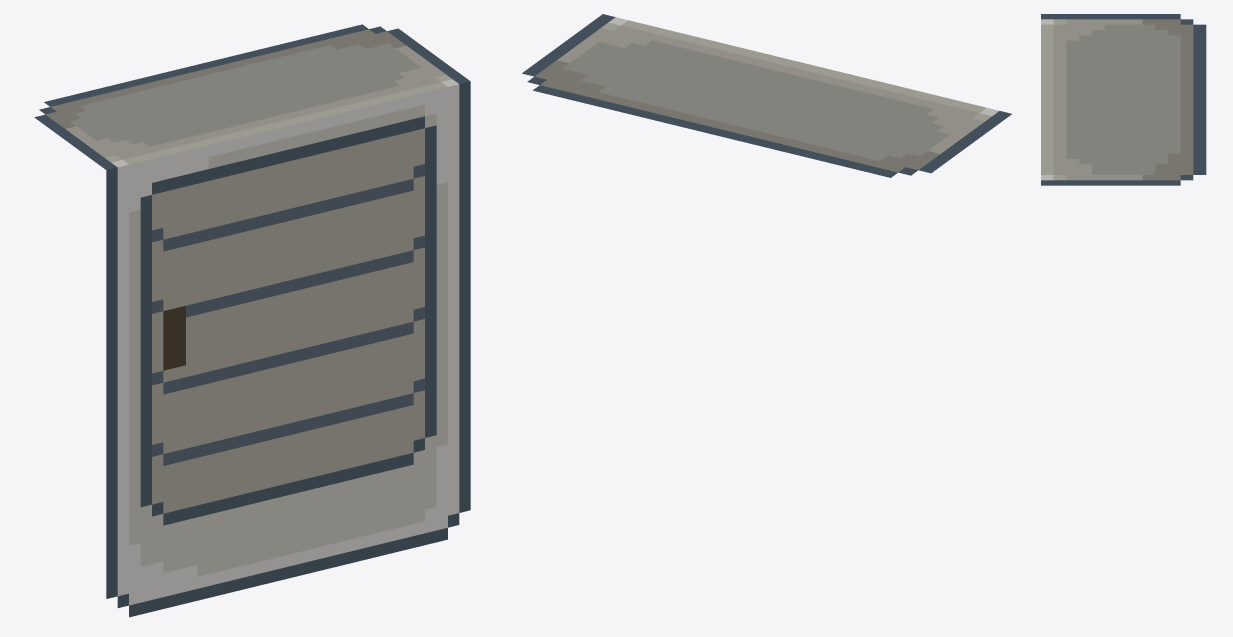
Rendered from fridge.gltf.
3 renders of one model, left to right at view 1: azimuth 30°, elevation 25°; view 2: azimuth 150°, elevation 25°; view 3: azimuth 270°, elevation 25°, orthographic. The views are drawn at different scales.
Visible parts, largest first — view 1: fridge-col; view 2: fridge-col; view 3: fridge-col.
Boxes of the visible parts, box(x1,y1,x2,y2) form: fridge-col: box(34, 24, 470, 617); fridge-col: box(522, 14, 1011, 177); fridge-col: box(1041, 14, 1206, 185).
Size of the model in its own units: 2 by 2.38 by 0.875.
1 material, 1 textured.
